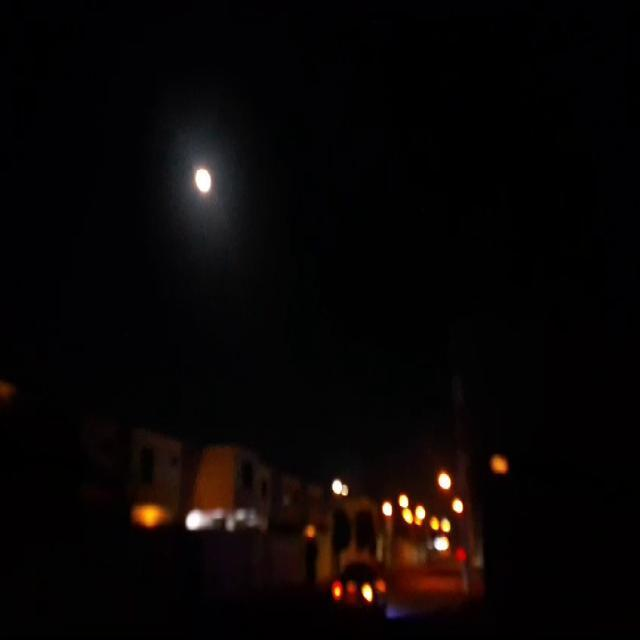moon: (192, 164, 212, 198)
